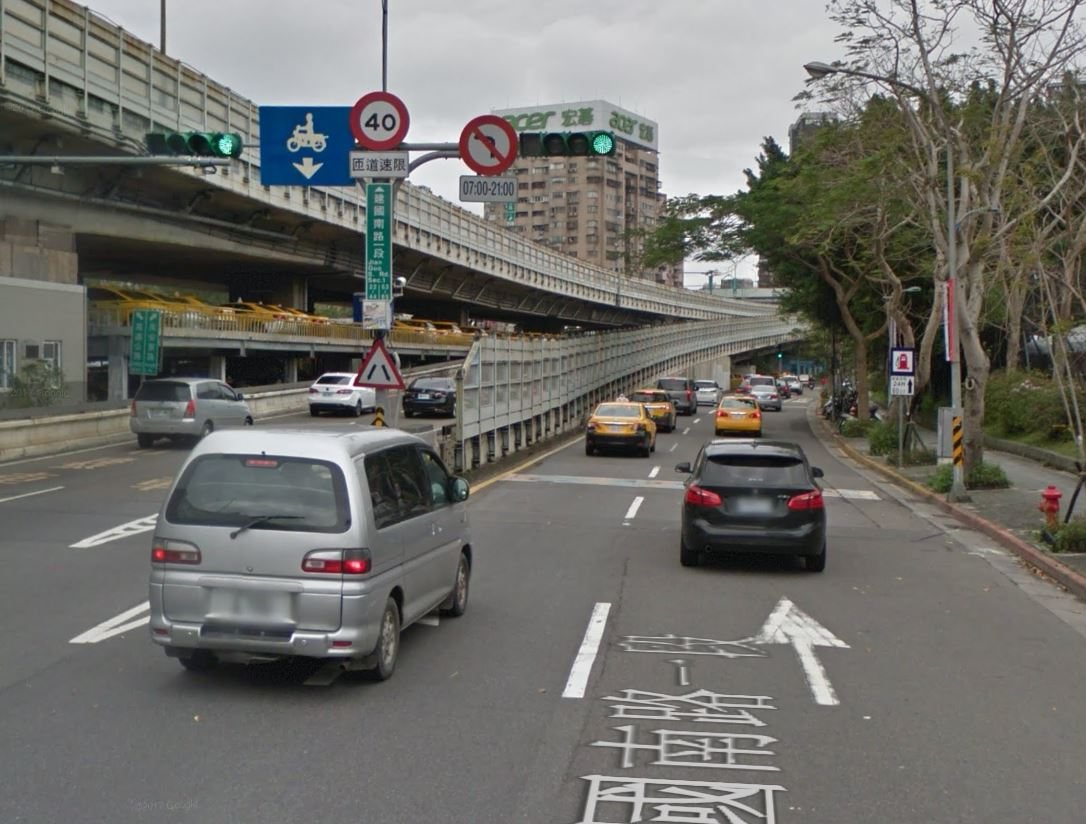No_left_turn: (459, 114, 518, 175)
Speed_limit_40km: (349, 92, 410, 147)
Traffic_light_green: (143, 129, 242, 158), (520, 130, 616, 158)
